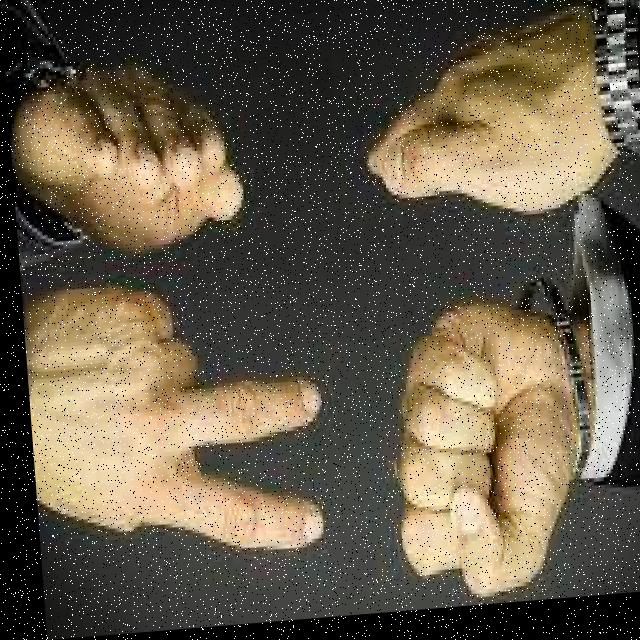rock: (348, 267, 625, 619)
scirssors: (16, 256, 334, 587)
